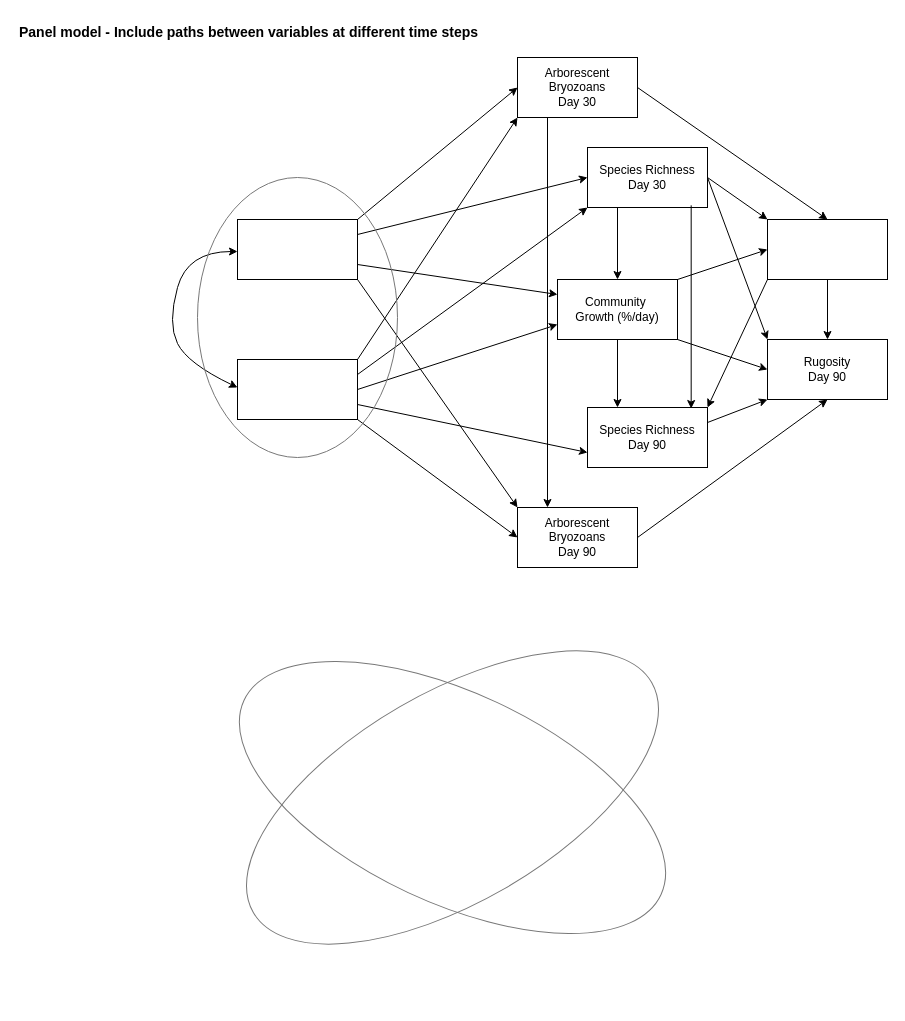
The diagram is 905 pixels wide and 1021 high, and some of its shapes have lost their labels. The shapes that lost their labels are listed below. From the top down, each one's centre as x and y in pixels, then its label:
At point 297,249: "Salinity Mean".
At point 827,249: "Rugosity Day 30".
At point 297,389: "Temperature Mean".
